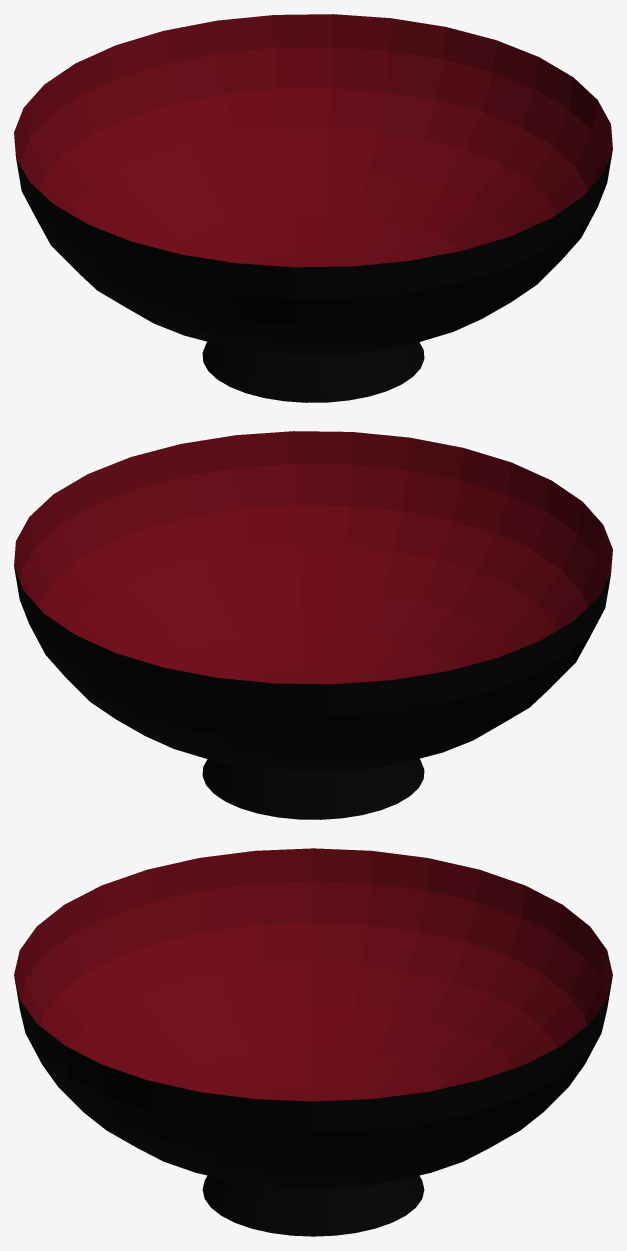
The picture shows the model from 3 angles, top to bottom: view 1: azimuth 30°, elevation 25°; view 2: azimuth 150°, elevation 25°; view 3: azimuth 270°, elevation 25°; orthographic projection.
Parts seen in each view (by area): view 1: 球, 円錐; view 2: 球, 円錐; view 3: 球, 円錐.
Part boxes in pixels (box(x1,y1,x2,y2)): 球: box(14, 14, 612, 356); 円錐: box(202, 341, 424, 402); 球: box(14, 431, 612, 773); 円錐: box(202, 758, 424, 819); 球: box(14, 848, 612, 1190); 円錐: box(202, 1175, 424, 1236).
Bounding box in the file's own units: 200 × 79.13 × 200.
